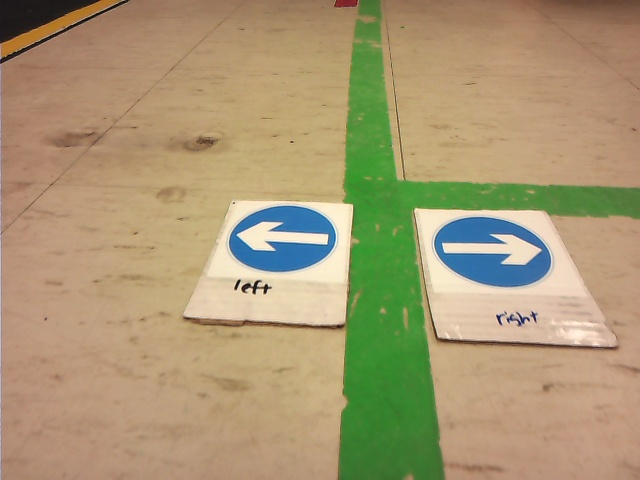TURN LEFT: (228, 206, 336, 272)
TURN RIGHT: (434, 216, 552, 287)
